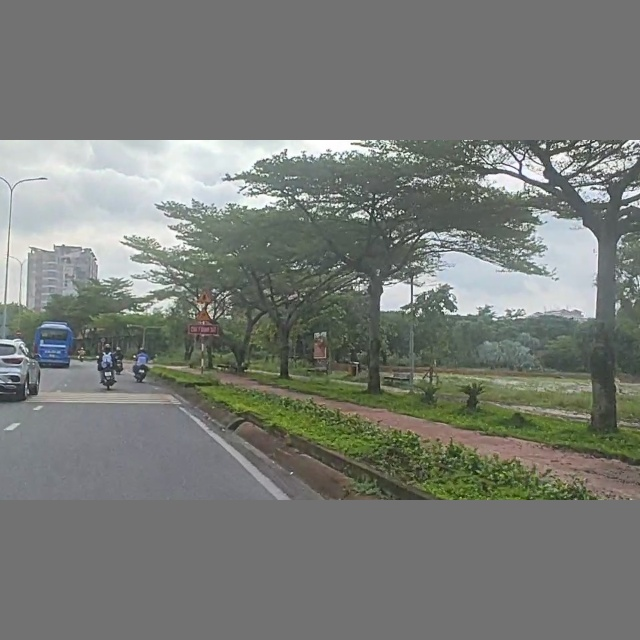W.207: (195, 287, 214, 303)
W.224: (195, 307, 215, 323)
